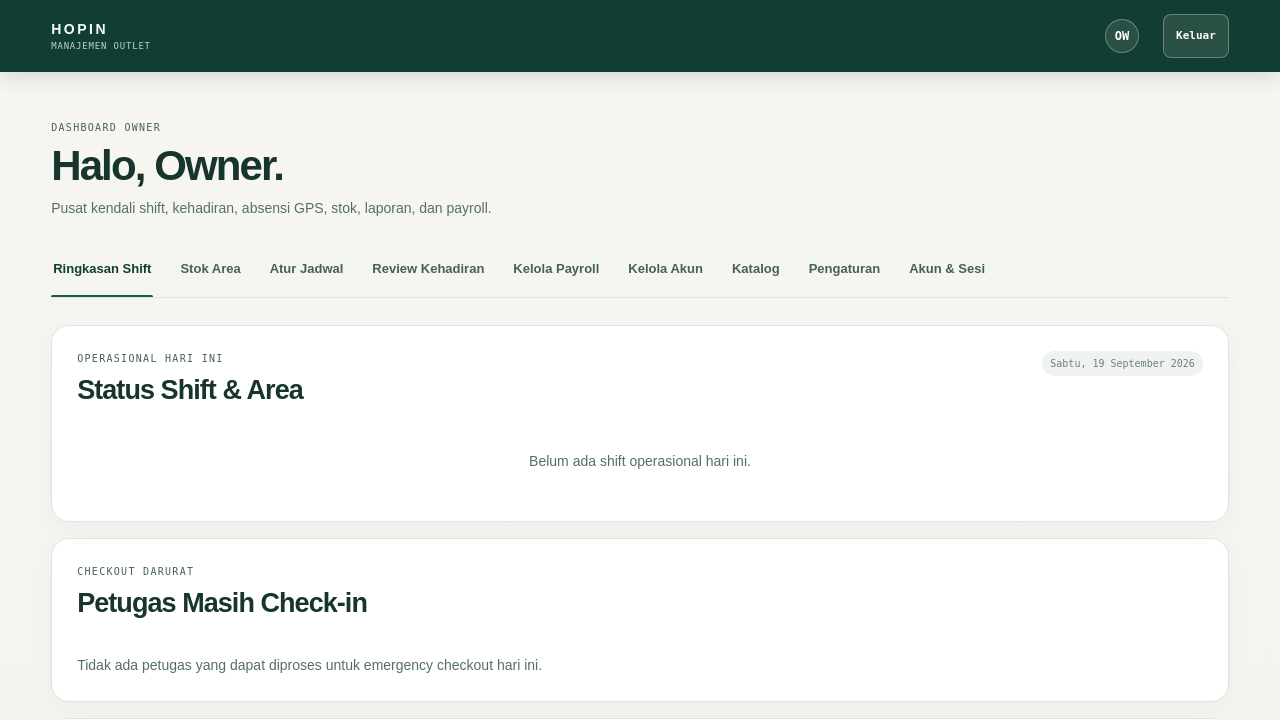
Test: ManagementView payroll period isolation › keeps invalid schedule and review filters as drafts without sending a malformed request
Click the button "Atur Jadwal".
click(307, 275)  # box [268,253,345,297]
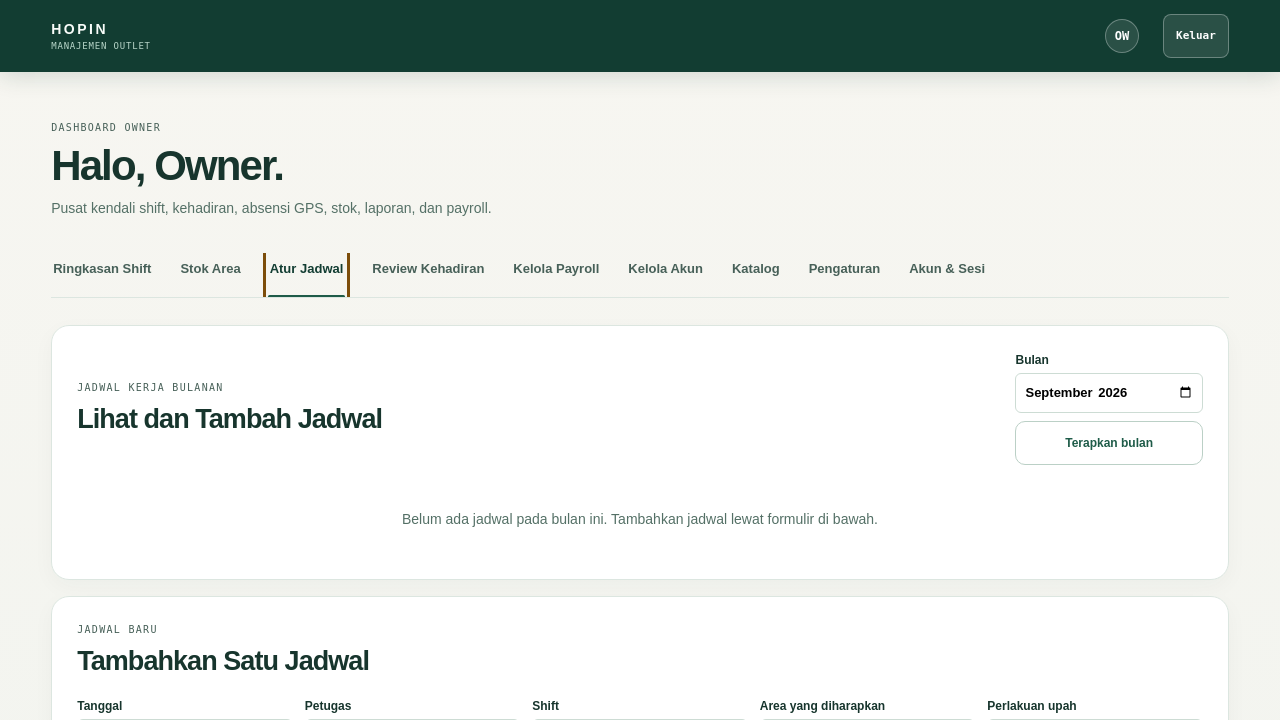
Clear the field labelled "Bulan" at (1109, 393), box [1016,373,1203,413]
Click the button "Terapkan bulan".
click(1109, 443)  # box [1016,421,1203,465]
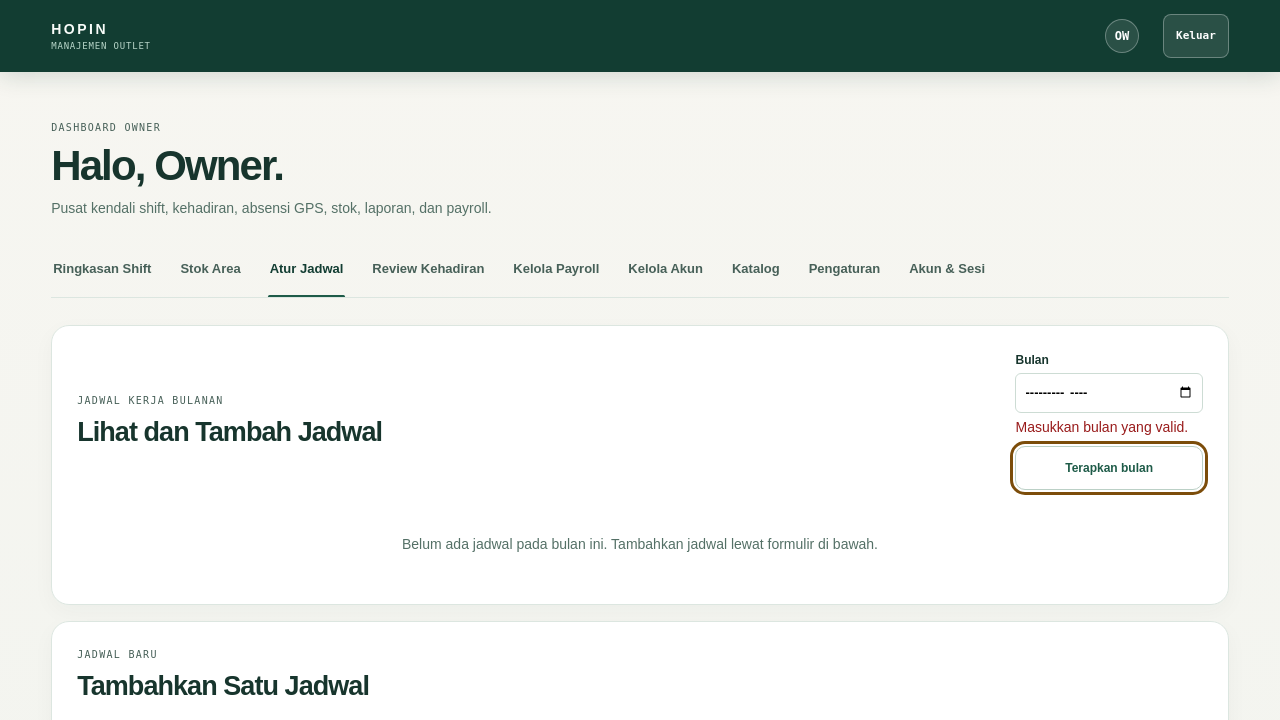
Now the message shows "Masukkan bulan yang valid", box [1016,419,1188,435]
Click the button "Review Kehadiran".
click(428, 275)  # box [370,253,486,297]
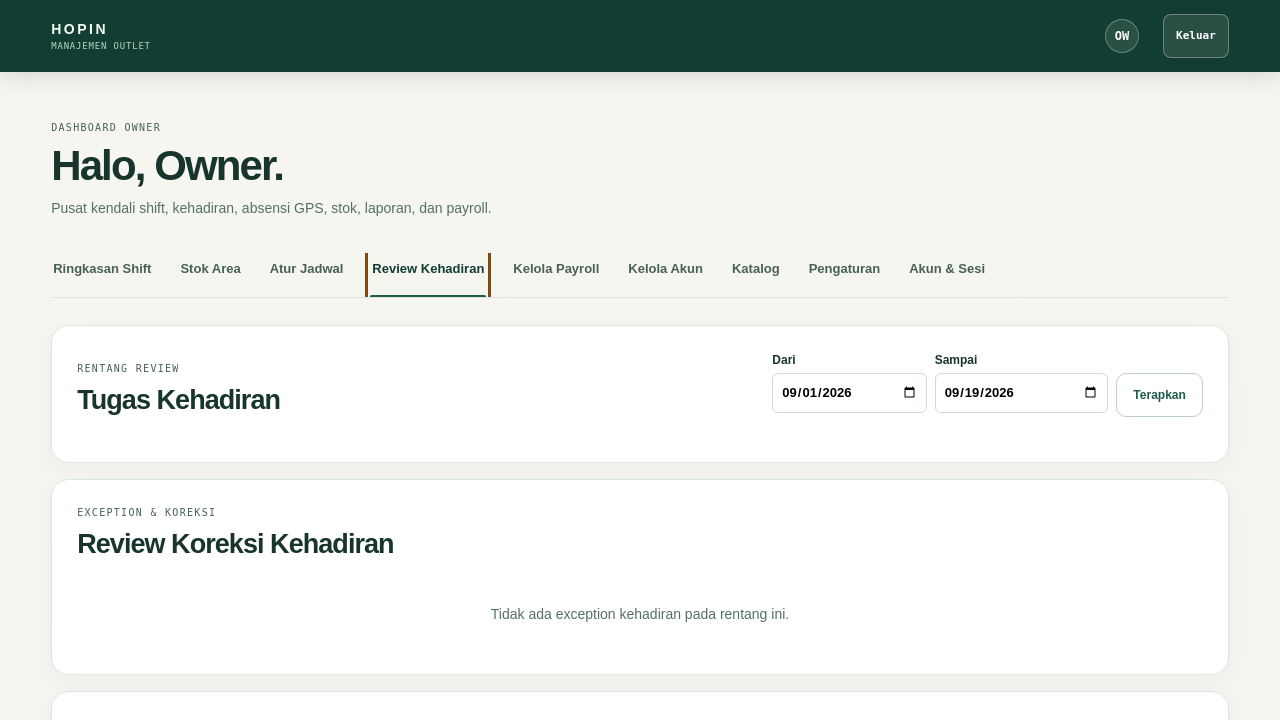
Clear the date field labelled "Dari" at (849, 393), box [772,373,927,413]
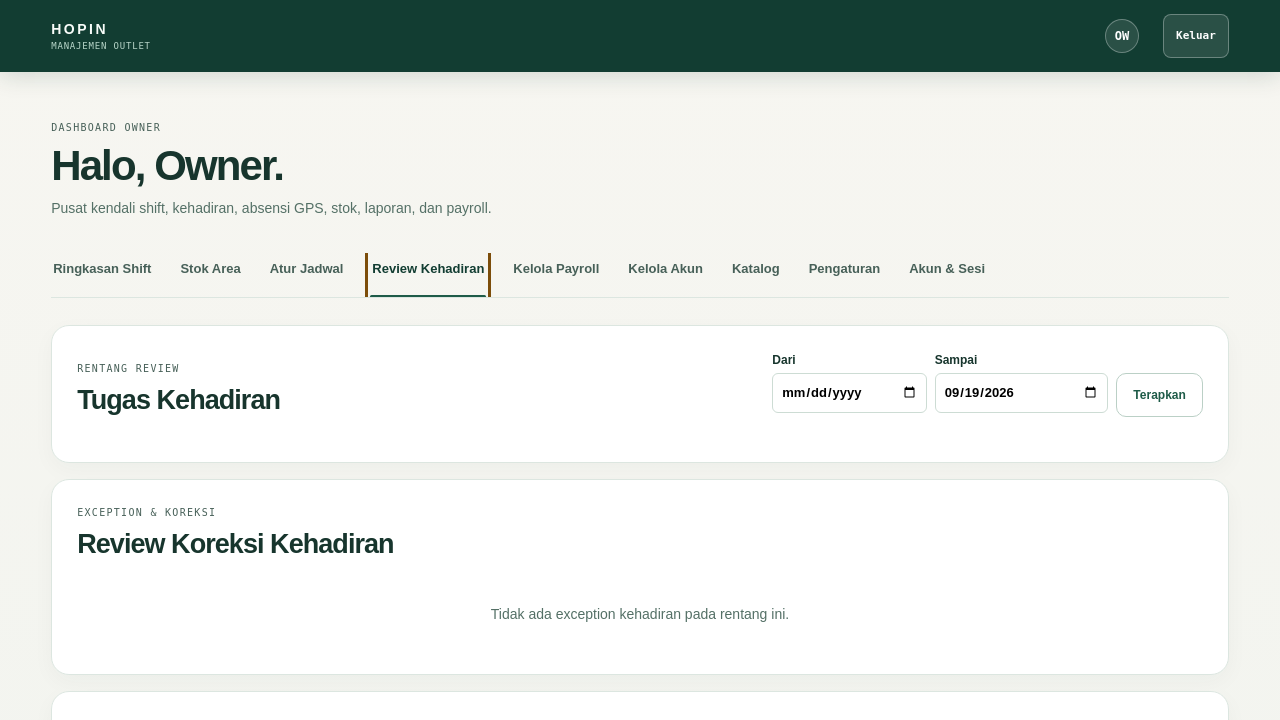
Clear the date field labelled "Sampai" at (1022, 393), box [935,373,1108,413]
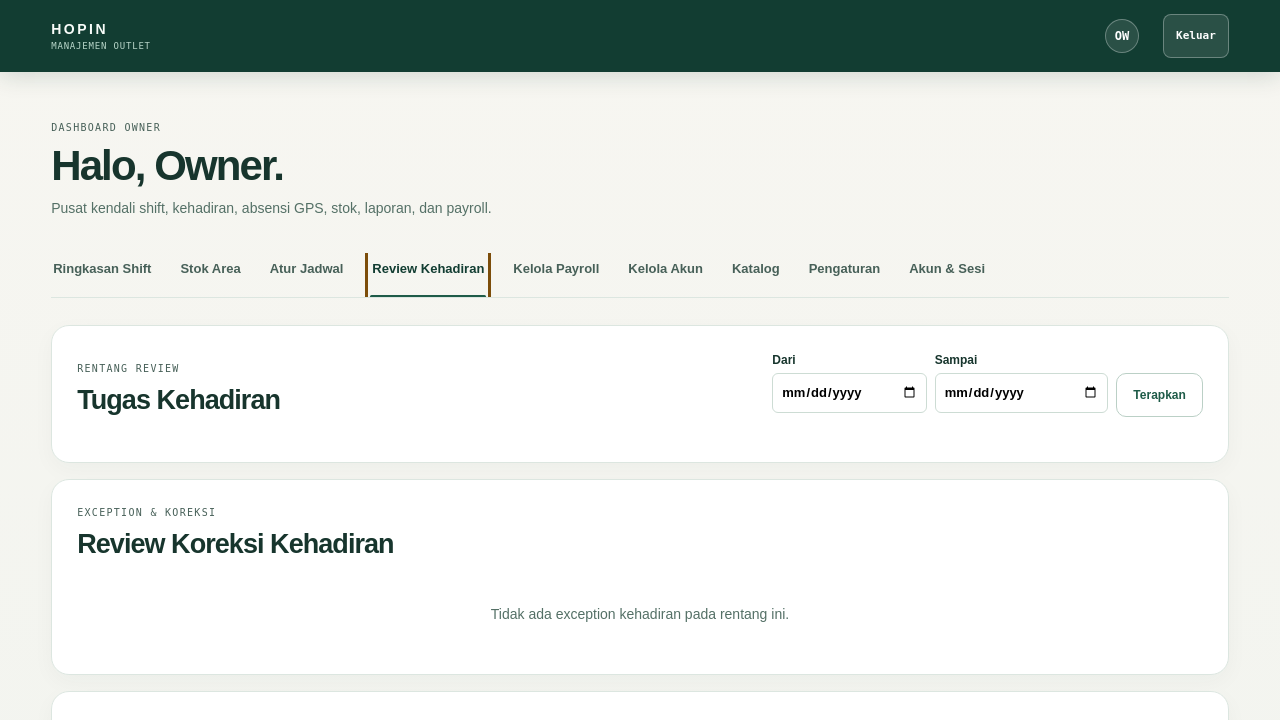
Click the button "Terapkan".
click(1160, 395)  # box [1116,373,1203,417]
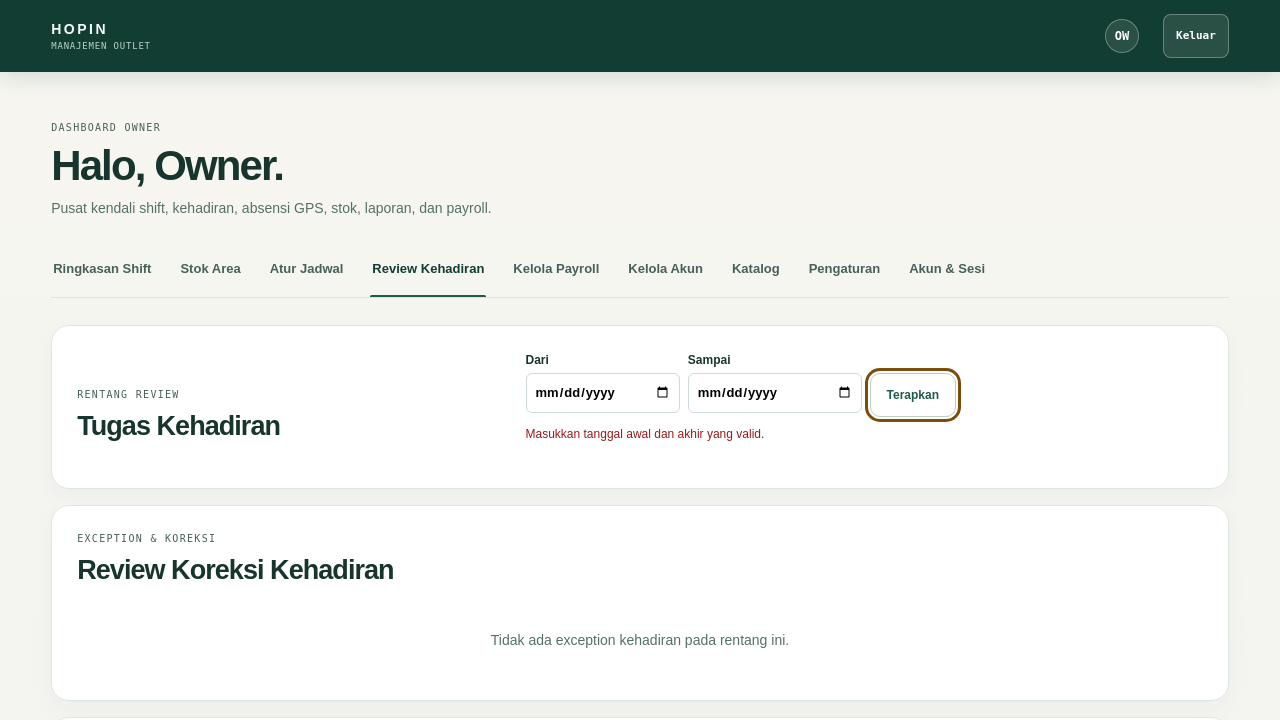
Now the message shows "Masukkan tanggal awal dan akhir yang valid", box [526,427,764,441]
